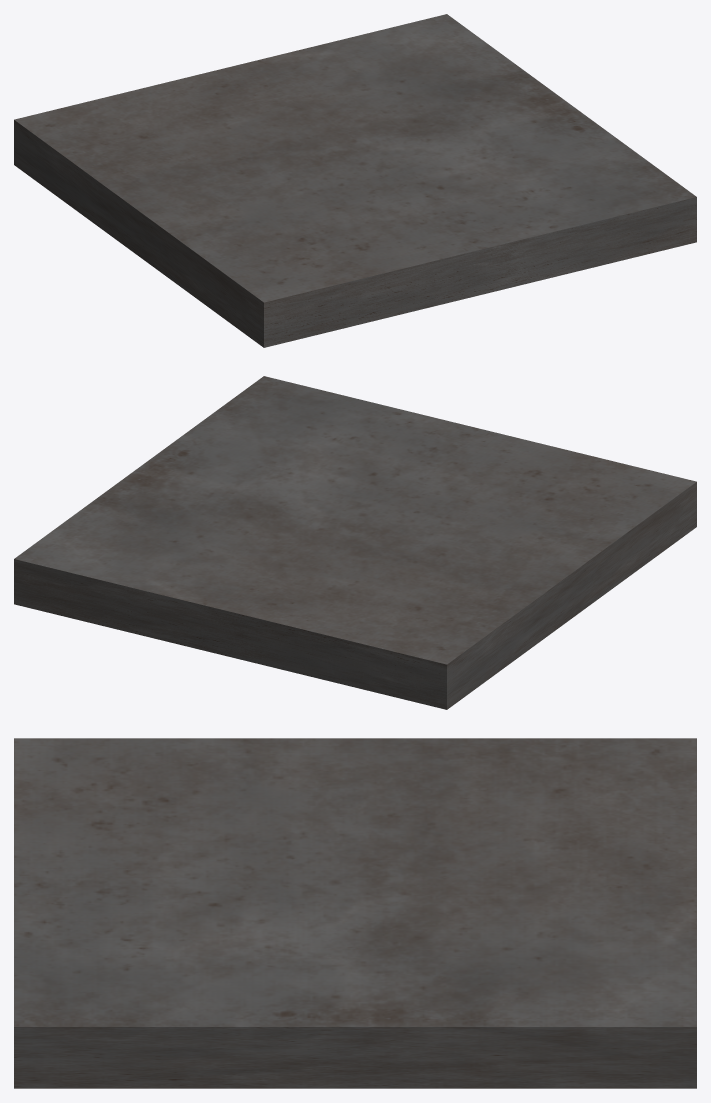
The model's file is many hole.fbx.
3 views of the same model, one above another, from view 1: azimuth 30°, elevation 25°; view 2: azimuth 150°, elevation 25°; view 3: azimuth 270°, elevation 25° (orthographic). The views are drawn at different scales.
Visible parts, largest first — view 1: takasa; view 2: takasa; view 3: takasa.
Part boxes in pixels (left/top/right/bottom): takasa: left=14, top=14, right=696, bottom=347; takasa: left=14, top=376, right=696, bottom=709; takasa: left=14, top=738, right=696, bottom=1088.
Bounding box in the file's own units: 2000 × 200 × 2000.
